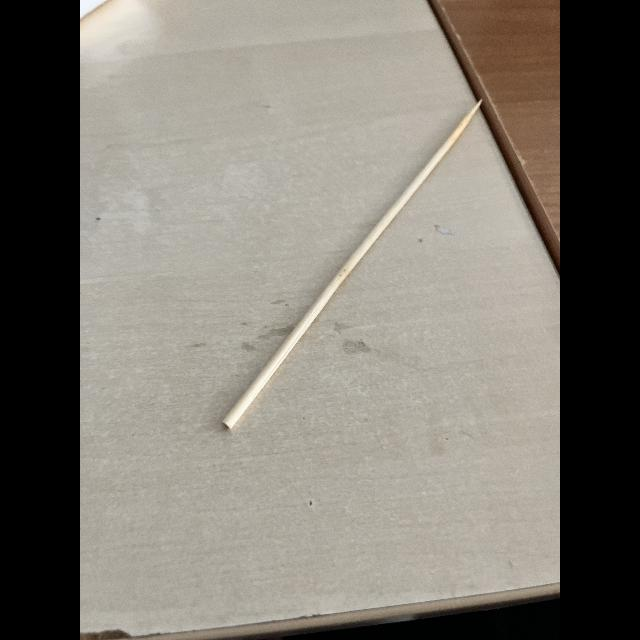stick: (202, 81, 496, 452)
